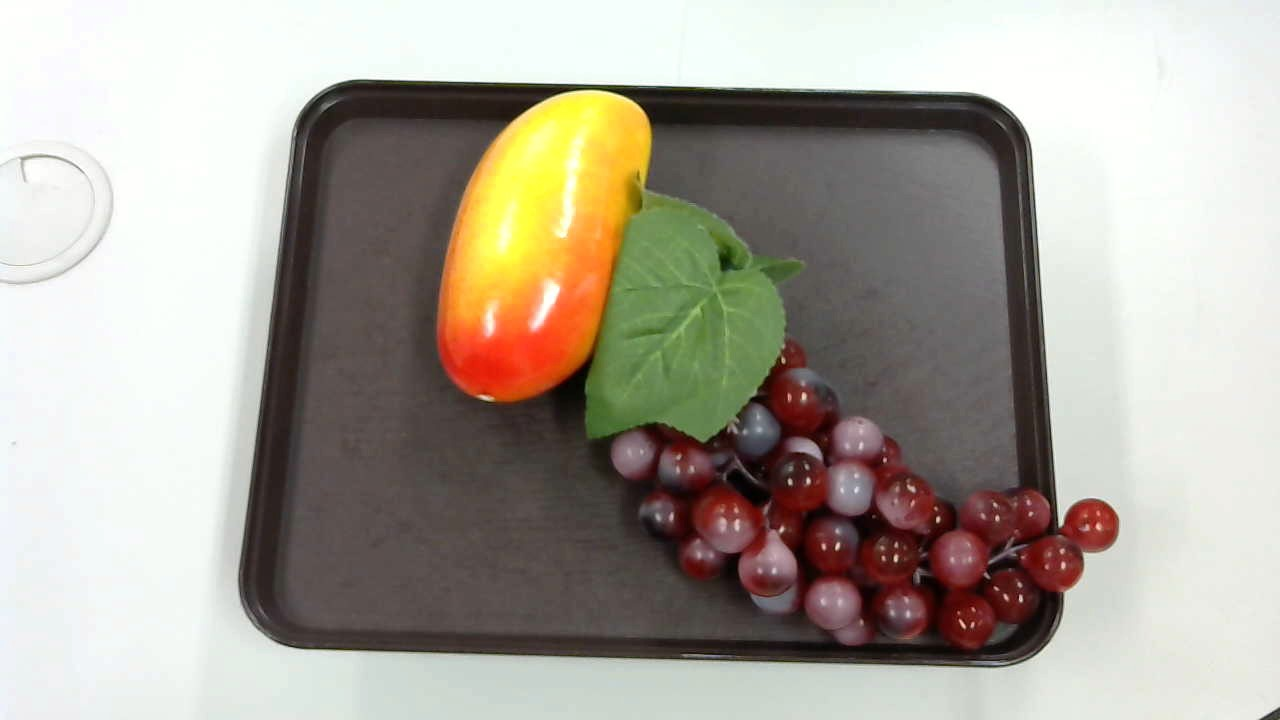grape: (583, 171, 1117, 652)
red mango: (435, 83, 659, 408)
